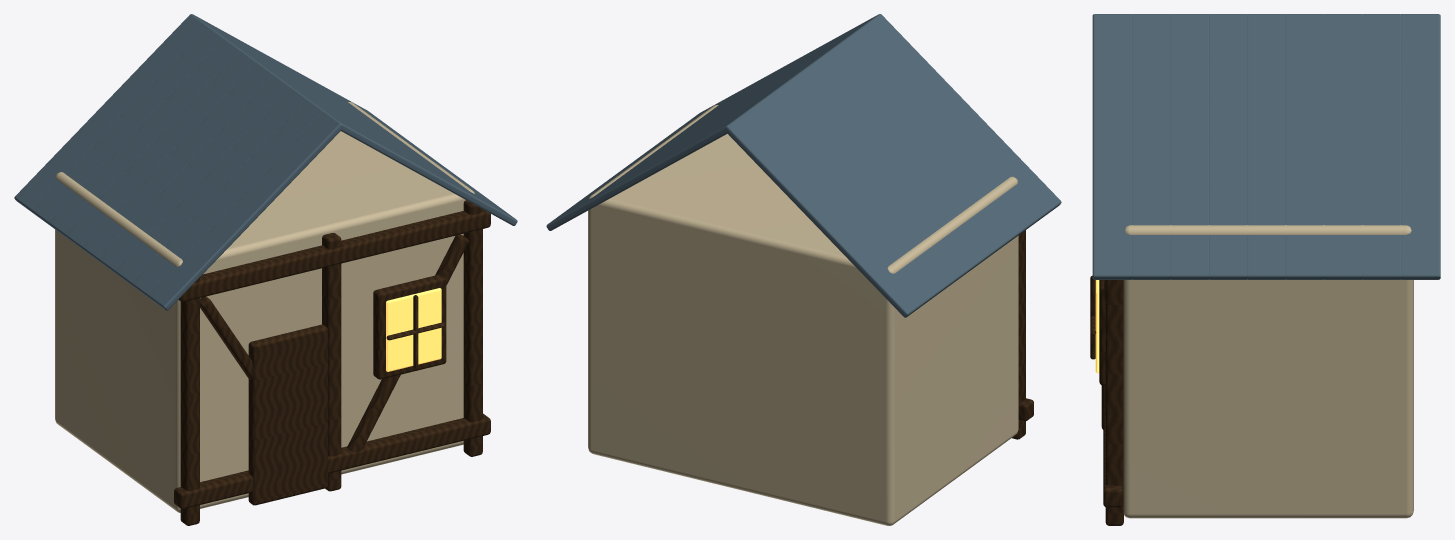
The model's file is cottage.glb.
3 views of the same model, side by side, from view 1: azimuth 30°, elevation 25°; view 2: azimuth 150°, elevation 25°; view 3: azimuth 270°, elevation 25° (orthographic). The views are drawn at different scales.
Visible parts, largest first — view 1: Plaster; view 2: Plaster; view 3: Plaster.
Boxes of the visible parts, x1,y1,x2,y2 form: Plaster: (14, 14, 517, 525); Plaster: (546, 14, 1061, 525); Plaster: (1090, 14, 1440, 525).
Bounding box in the file's own units: 3.08 × 3.09 × 2.28.
4 materials, 1 textured.
